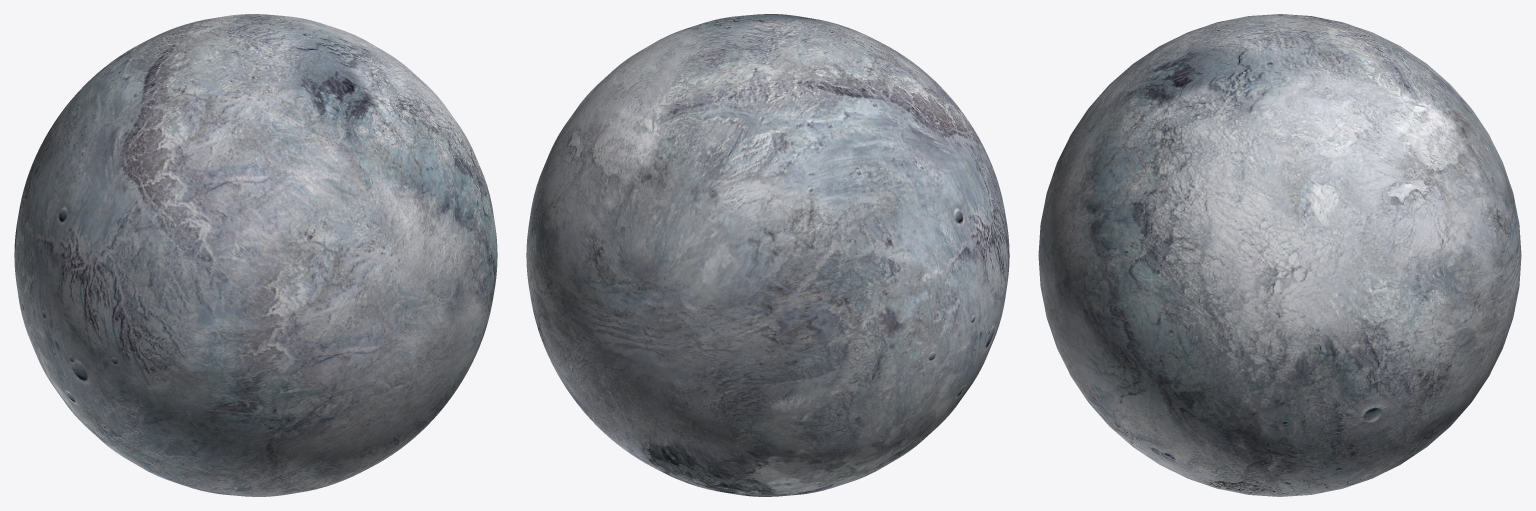
File: Eris.glb
3 renders of one model, left to right at view 1: azimuth 30°, elevation 25°; view 2: azimuth 150°, elevation 25°; view 3: azimuth 270°, elevation 25°, orthographic.
Parts seen in each view (by area): view 1: Sphere_Material.002_0.001; view 2: Sphere_Material.002_0.001; view 3: Sphere_Material.002_0.001.
Part boxes in pixels (x1,y1,x2,y2): Sphere_Material.002_0.001: (14,14,497,496); Sphere_Material.002_0.001: (526,14,1009,496); Sphere_Material.002_0.001: (1038,14,1521,496).
Size of the model in its own units: 200 by 200 by 200.
2 materials, 1 textured.
